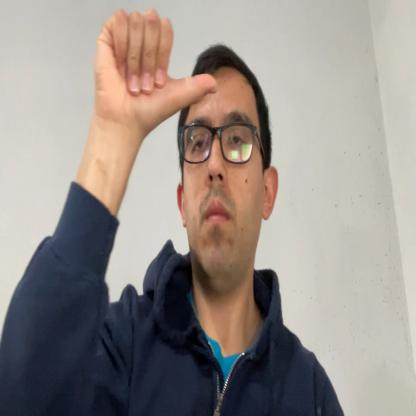A: (93, 9, 218, 141)
